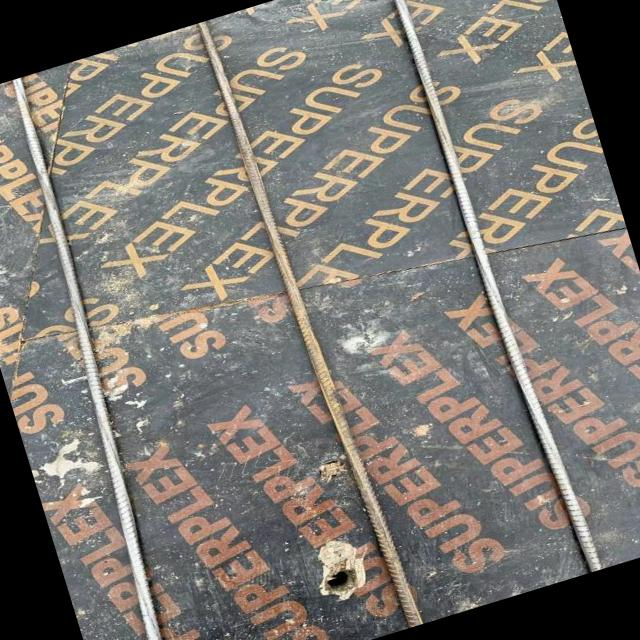ribbed bar: (196, 10, 427, 634), (379, 0, 603, 578), (0, 76, 211, 640)
